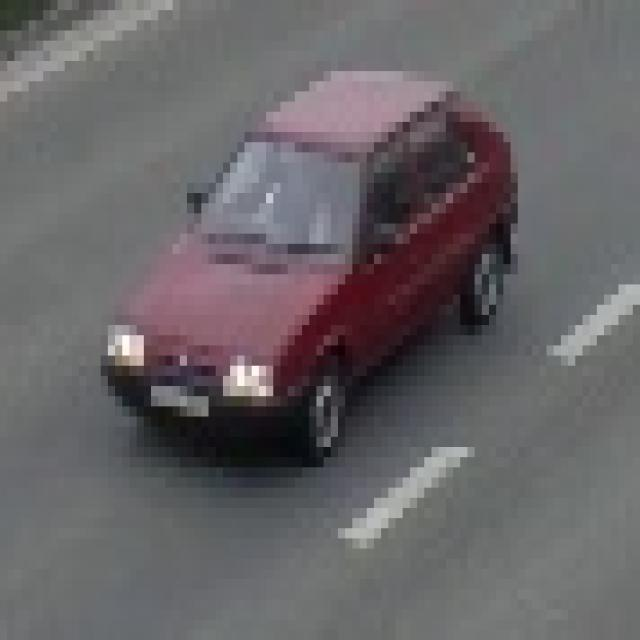maroon: (106, 76, 520, 466)
